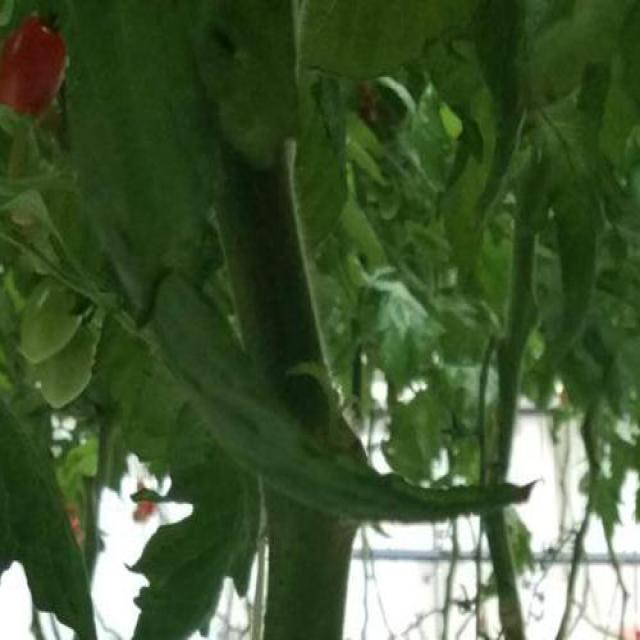tomato: (0, 16, 66, 118)
